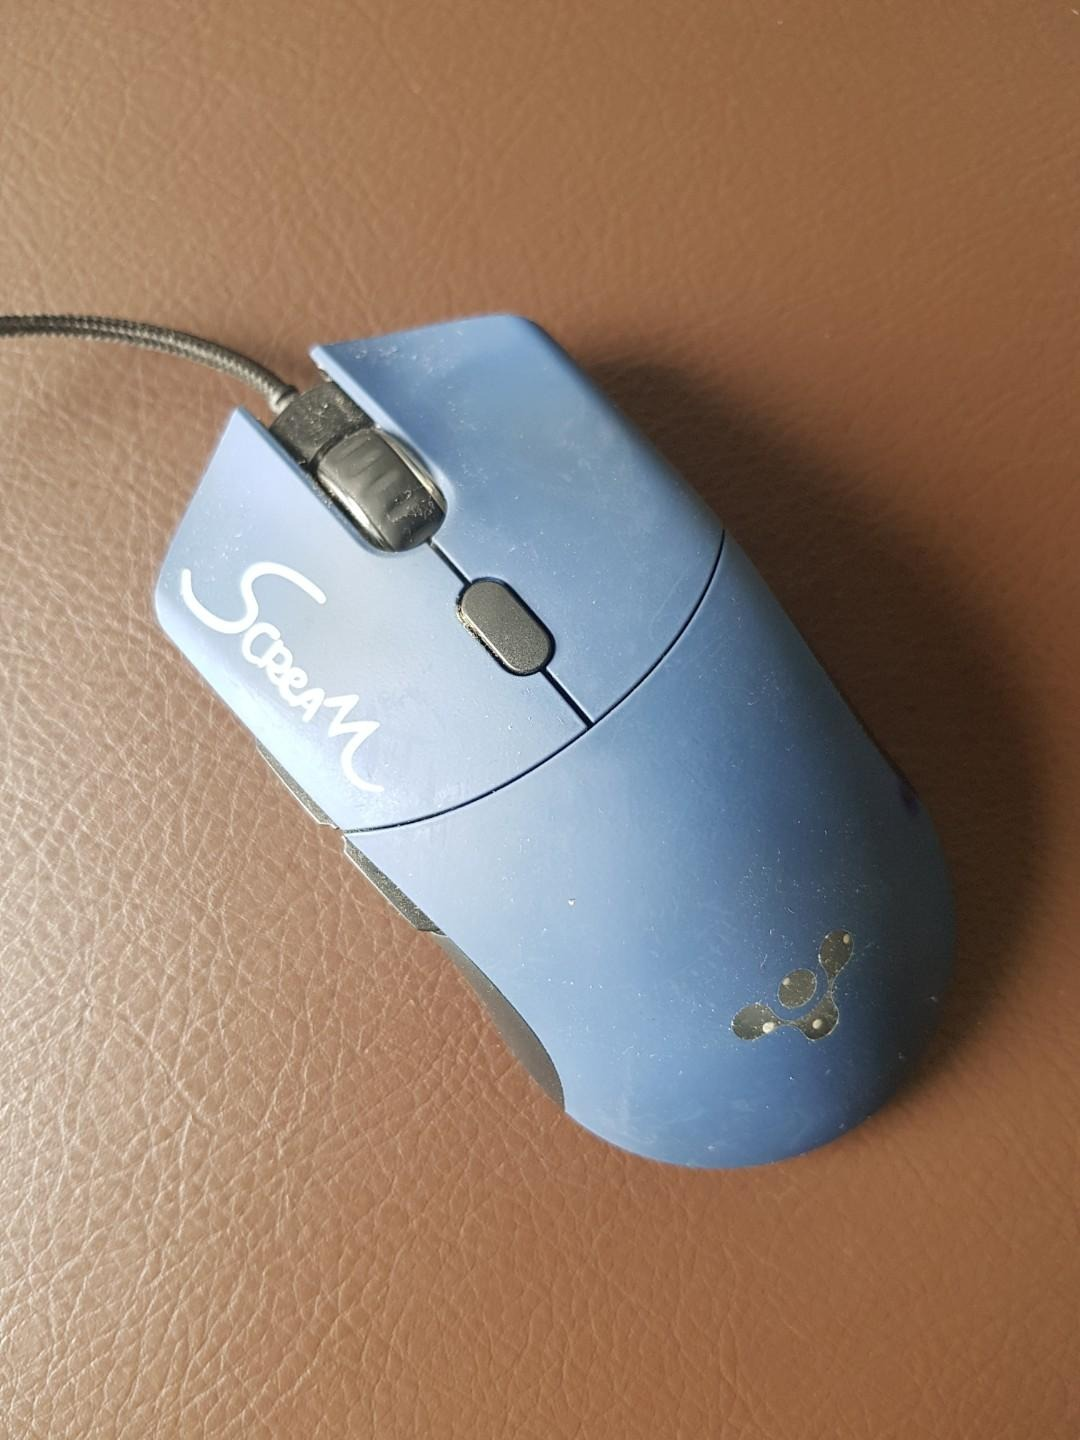mouse: (132, 276, 970, 1185)
